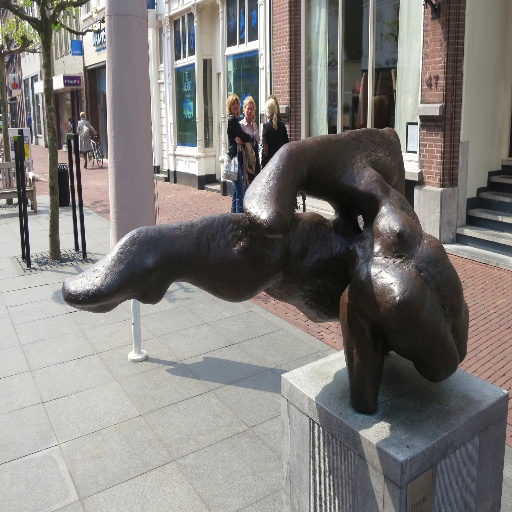hand: (235, 136, 242, 146), (251, 114, 256, 123)
